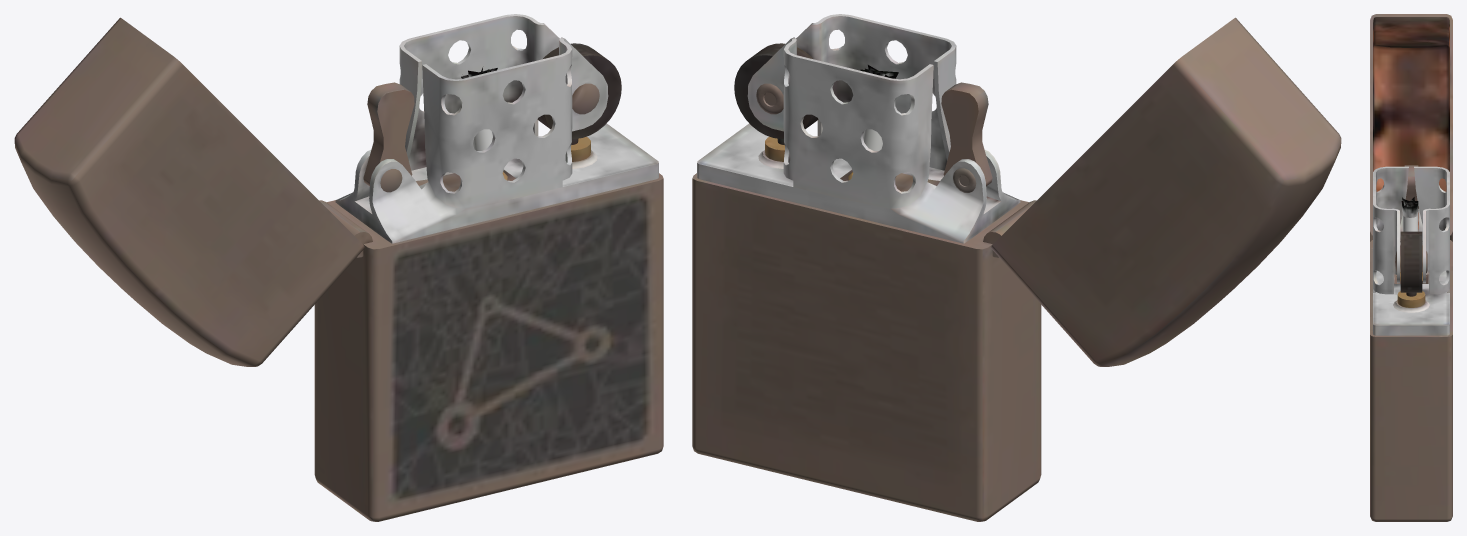
The model's file is vintage_lighter.glb.
3 views of the same model, side by side, from view 1: azimuth 30°, elevation 25°; view 2: azimuth 150°, elevation 25°; view 3: azimuth 270°, elevation 25° (orthographic). The views are drawn at different scales.
Parts seen in each view (by area): view 1: vintage_lighter_body, vintage_lighter_hinge, vintage_lighter_hammer, vintage_lighter_flintstone; view 2: vintage_lighter_body, vintage_lighter_hinge, vintage_lighter_hammer, vintage_lighter_flintstone; view 3: vintage_lighter_body, vintage_lighter_hinge, vintage_lighter_flintstone, vintage_lighter_hammer.
Part boxes in pixels (x1=…): vintage_lighter_body: x1=314, y1=14, x2=663, y2=521; vintage_lighter_hinge: x1=14, y1=17, x2=372, y2=366; vintage_lighter_hammer: x1=363, y1=82, x2=414, y2=192; vintage_lighter_flintstone: x1=537, y1=43, x2=621, y2=138; vintage_lighter_body: x1=692, y1=14, x2=1041, y2=521; vintage_lighter_hinge: x1=983, y1=17, x2=1341, y2=366; vintage_lighter_hammer: x1=941, y1=82, x2=992, y2=192; vintage_lighter_flintstone: x1=734, y1=43, x2=818, y2=138; vintage_lighter_body: x1=1370, y1=166, x2=1452, y2=521; vintage_lighter_hinge: x1=1370, y1=14, x2=1452, y2=241; vintage_lighter_flintstone: x1=1395, y1=231, x2=1427, y2=292; vintage_lighter_hammer: x1=1404, y1=165, x2=1418, y2=224.
Bounding box in the file's own units: 0.0796 × 0.065 × 0.014.
Materials: 2 (2 with a texture image).
